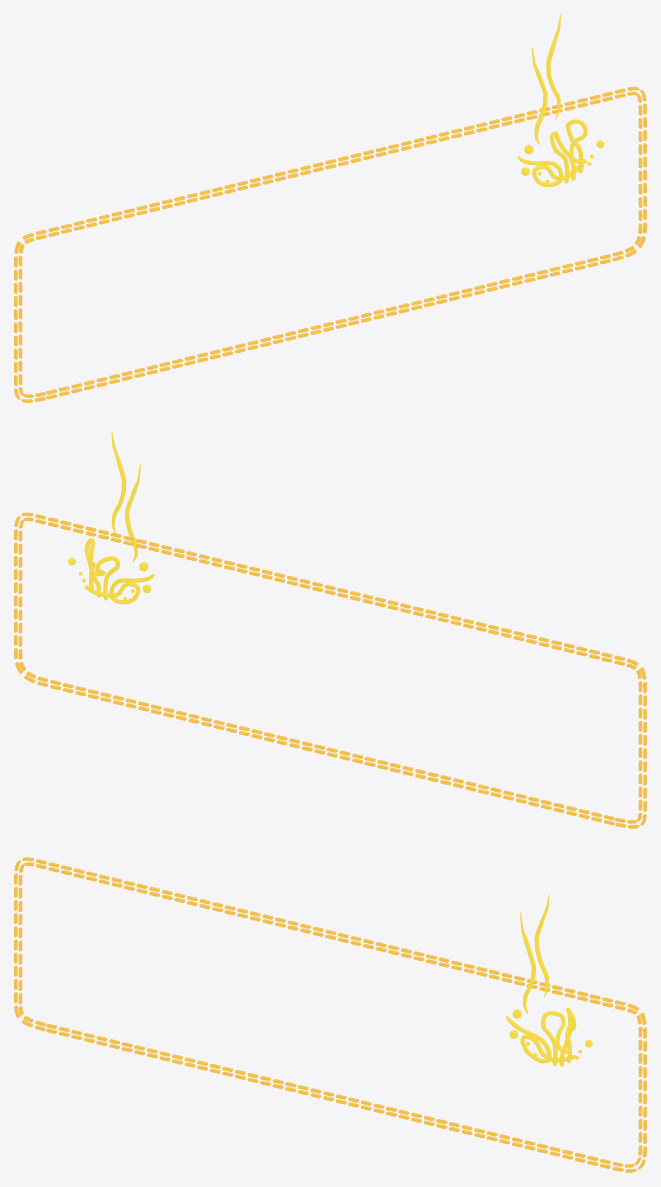
File: SpaceText2.glb
3 views of the same model, one above another, from view 1: azimuth 30°, elevation 25°; view 2: azimuth 150°, elevation 25°; view 3: azimuth 330°, elevation 25° (orthographic).
Visible parts, largest first — view 1: Cube.058, Circle.003; view 2: Cube.058, Circle.003; view 3: Cube.058, Circle.003.
Boxes of the visible parts, left/top/right/bottom form: Cube.058: left=14, top=86, right=646, bottom=402; Circle.003: left=517, top=14, right=604, bottom=186; Cube.058: left=14, top=512, right=646, bottom=828; Circle.003: left=68, top=431, right=154, bottom=604; Cube.058: left=14, top=857, right=646, bottom=1172; Circle.003: left=506, top=894, right=592, bottom=1066.
Bounding box in the file's own units: 14.69 × 5.9 × 0.5896.
